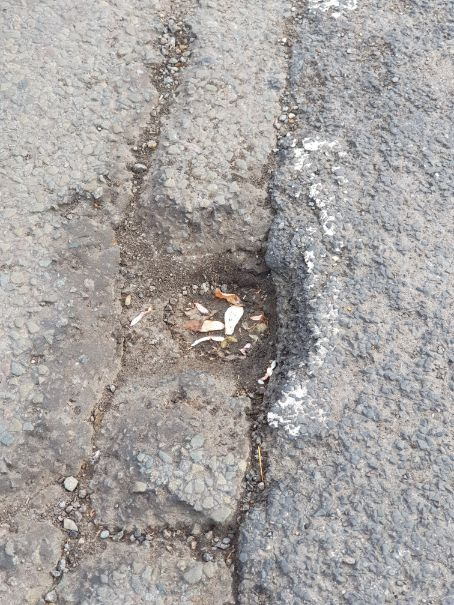pothole: (31, 168, 338, 562)
